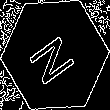N_NE: (26, 24, 84, 86)
